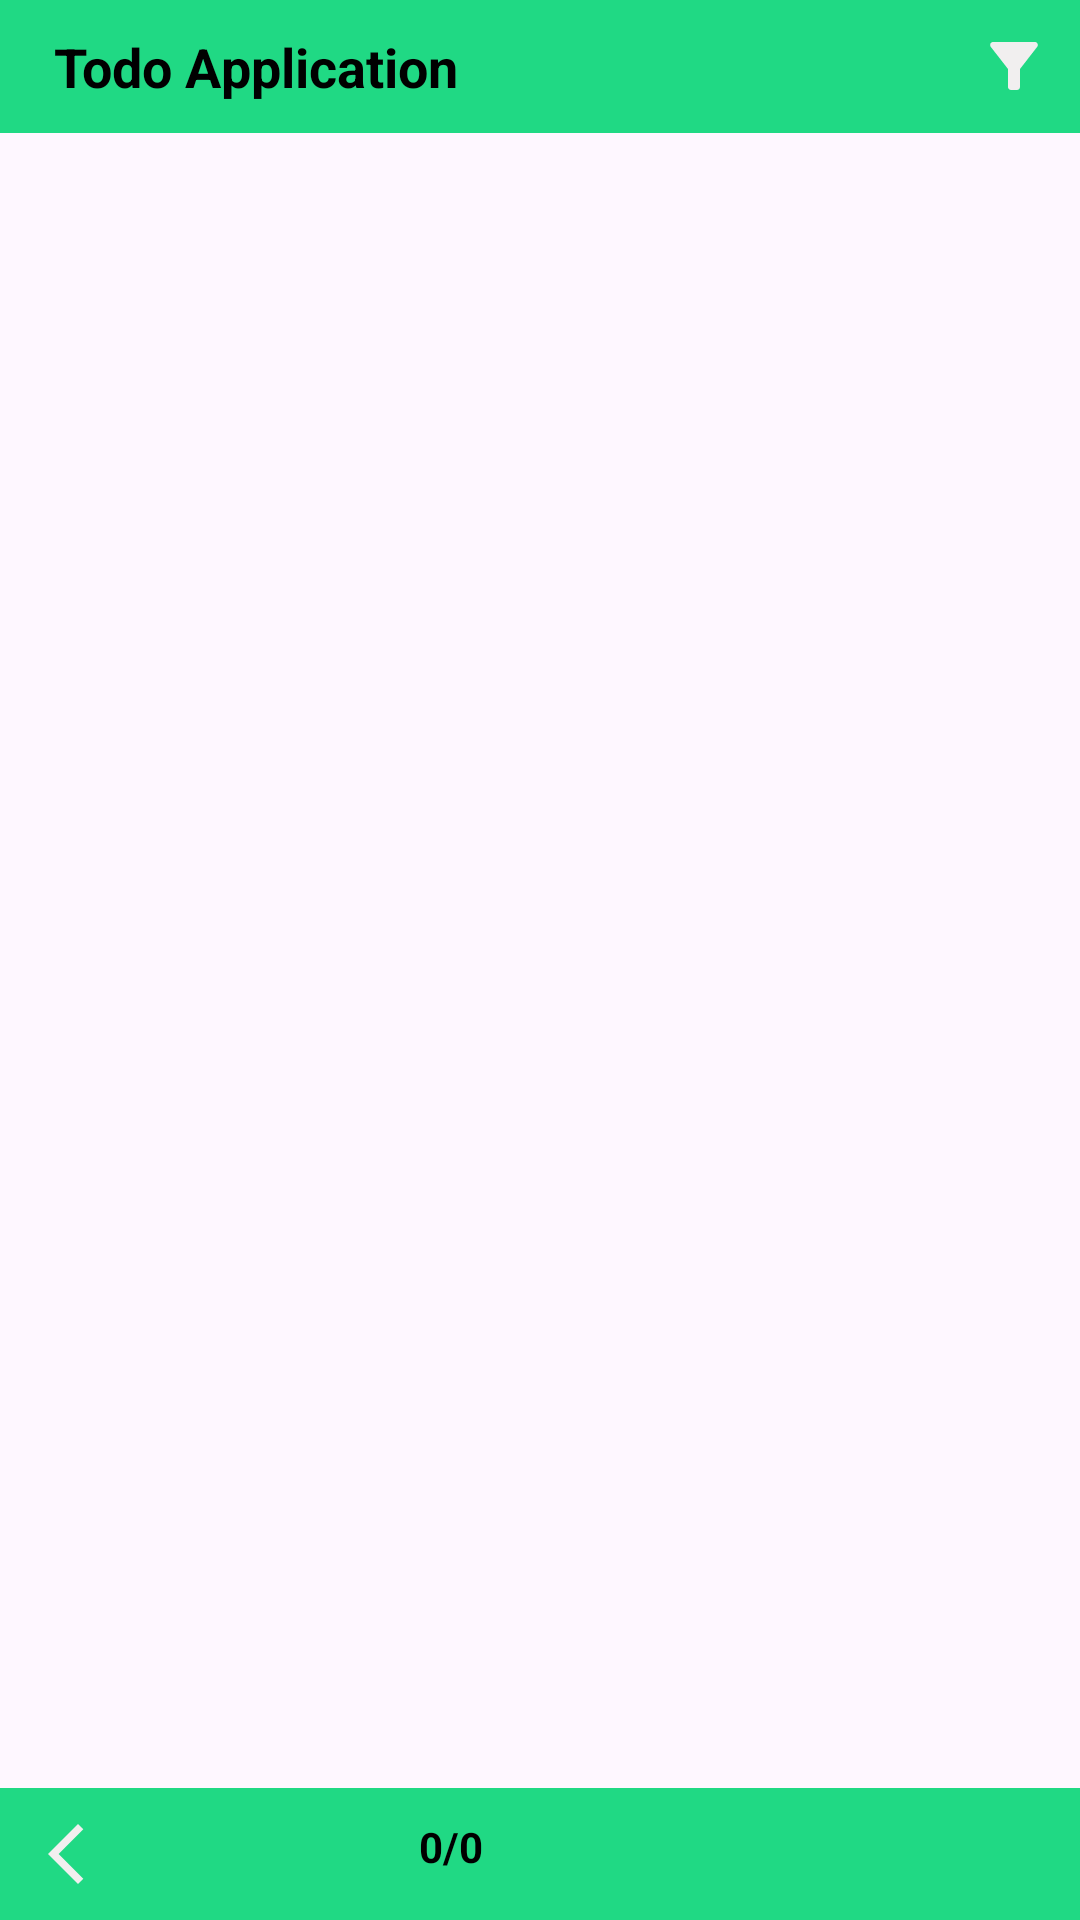

Point at icon controls on the screen. Image size 1080 x 1920, points as (x=x, y=y).
arrow back: (x=65, y=1854)
filter: (x=1014, y=66)
